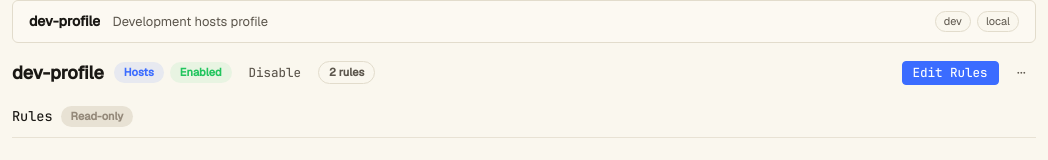
Test case: ProfileView › returns to read-only mode when Cancel is clicked
# Enter edit mode
Click the button "Edit Rules": click(950, 72) [902,60,998,84]
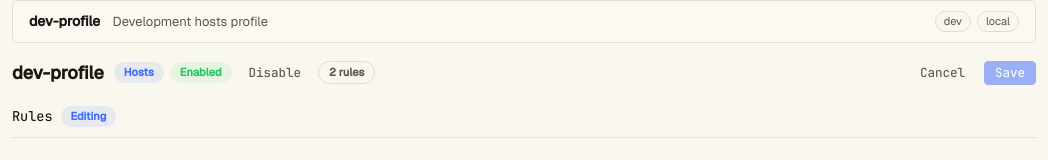
Expected: the text "Editing" is shown, [61,106,116,126]
# Click Cancel
Click the button "Cancel": click(942, 72) [909,60,976,84]
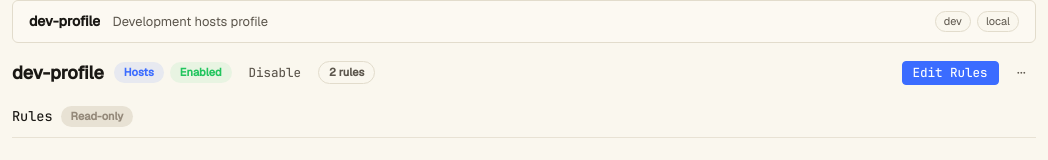
Expected: the text "Read-only" is shown, [61,106,133,126]
Expected: the text "Editing" is gone
Expected: the button "Edit Rules" is shown, [902,60,998,84]
